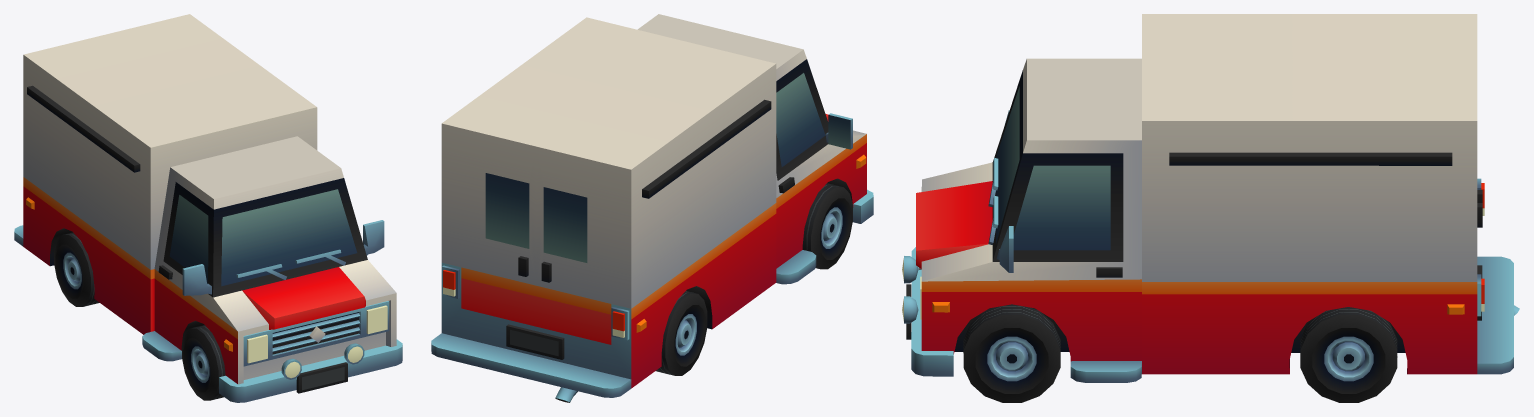
Rendered from Car_Truck.fbx.
3 renders of one model, left to right at view 1: azimuth 30°, elevation 25°; view 2: azimuth 150°, elevation 25°; view 3: azimuth 270°, elevation 25°, orthographic. The views are drawn at different scales.
Parts seen in each view (by area): view 1: Car_Truck, Car_Truck_FR, Car_Truck_BR; view 2: Car_Truck, Car_Truck_FR, Car_Truck_BR; view 3: Car_Truck, Car_Truck_FL, Car_Truck_BL.
Part boxes in pixels (x1,y1,x2,y2): Car_Truck: (14, 14, 402, 402); Car_Truck_FR: (182, 325, 225, 400); Car_Truck_BR: (54, 232, 99, 306); Car_Truck: (431, 14, 873, 402); Car_Truck_FR: (802, 183, 852, 269); Car_Truck_BR: (656, 291, 707, 375); Car_Truck: (902, 14, 1519, 382); Car_Truck_FL: (963, 304, 1060, 402); Car_Truck_BL: (1300, 307, 1397, 402).
Size of the model in its own units: 121 by 245 by 124.
Materials: 2 (2 with a texture image).
